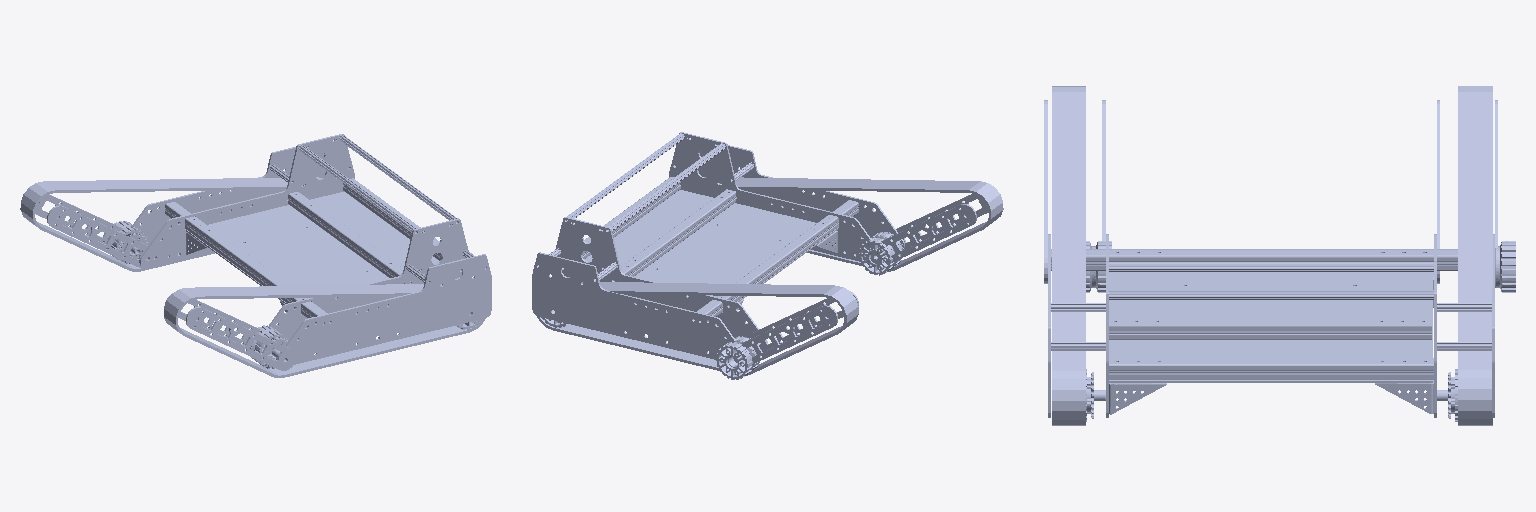
The robot description file, URDF, robot "rhino":
<?xml version="1.0"?>
<!-- This URDF was automatically created by SolidWorks to URDF Exporter! Originally created by [author] ([email redacted]) 
     Commit Version: 1.5.0-0-g9aa0fdb  Build Version: 1.5.7004.21443
     For more information, please see http://wiki.ros.org/sw_urdf_exporter -->

<robot xmlns:sensor="http://playerstage.sourceforge.net/gazebo/xmlschema/#sensor"
  xmlns:controller="http://playerstage.sourceforge.net/gazebo/xmlschema/#controller"
  xmlns:interface="http://playerstage.sourceforge.net/gazebo/xmlschema/#interface"
  xmlns:xacro="http://www.ros.org/wiki/xacro"
  name="rhino">
<!--   <gazebo>
    <plugin filename="libgazebo_ros_diff_drive.so" name="differential_drive_controller">
      <alwaysOn>true</alwaysOn>
      <updateRate>20</updateRate>
      <leftJoint>l_front_gear_joint</leftJoint>
      <rightJoint>r_front_gear_joint</rightJoint>
      <wheelSeparation>0.5207</wheelSeparation>
      <wheelDiameter>0.0381</wheelDiameter>
      <torque>0.1</torque>
      <commandTopic>cmd_vel</commandTopic>
      <odometryTopic>odom</odometryTopic>
      <odometryFrame>odom</odometryFrame>
      <robotBaseFrame>base_link</robotBaseFrame>
    </plugin>
  </gazebo> -->
  <link
    name="base_link">
    <inertial>
      <origin
        xyz="-0.0854539444578278 -0.248510652272491 -0.0312116526849612"
        rpy="0 0 0" />
      <mass
        value="3.56295751873982" />
      <inertia
        ixx="0.257988964378837"
        ixy="-4.92926267539531E-05"
        ixz="0.00927576508424767"
        iyy="0.169815337004094"
        iyz="-0.000325135700747767"
        izz="0.404346652256536" />
    </inertial>
    <visual>
      <origin
        xyz="0 0 0"
        rpy="0 0 0" />
      <geometry>
        <mesh
          filename="package://robot-description-rhino/meshes/base_link.STL" />
      </geometry>
      <material
        name="">
        <color
          rgba="0.792156862745098 0.819607843137255 0.933333333333333 1" />
      </material>
    </visual>
    <collision>
      <origin
        xyz="0 0 0"
        rpy="0 0 0" />
      <geometry>
        <mesh
          filename="package://robot-description-rhino/meshes/base_link.STL" />
      </geometry>
    </collision>
  </link>
  <link
    name="r_front_gear_link">
    <inertial>
      <origin
        xyz="-1.7946086172671E-08 0.000932848402039943 -1.21516630091634E-10"
        rpy="0 0 0" />
      <mass
        value="0.159751645930498" />
      <inertia
        ixx="0.000101683067389321"
        ixy="-2.67439877595214E-12"
        ixz="-4.32552434761431E-14"
        iyy="0.000126695577433162"
        iyz="7.52063087514194E-11"
        izz="0.000101675353103401" />
    </inertial>
    <visual>
      <origin
        xyz="0 0 0"
        rpy="0 0 0" />
      <geometry>
        <mesh
          filename="package://robot-description-rhino/meshes/r_rear_gear_link.STL" />
      </geometry>
      <material
        name="">
        <color
          rgba="0.792156862745098 0.819607843137255 0.933333333333333 1" />
      </material>
    </visual>
    <collision>
      <origin
        xyz="0 0 0"
        rpy="0 0 0" />
      <geometry>
        <cylinder radius="0.049" length="0.075"/>
      </geometry>
    </collision>
  </link>
  <joint
    name="r_front_gear_joint"
    type="continuous">
    <origin
      xyz="-0.302841769105532 0.0553113212582894 -0.085091106884355"
      rpy="1.5707 0 0" />
    <parent
      link="base_link" />
    <child
      link="r_front_gear_link" />
    <axis
      xyz="0 0 1" />
    <safety_controller
      k_velocity="0" />
  </joint>
  <link
    name="l_front_gear_link">
    <inertial>
      <origin
        xyz="-1.79460862281822E-08 0.00093284840204011 -1.21516602336058E-10"
        rpy="0 0 0" />
      <mass
        value="0.159751645930498" />
      <inertia
        ixx="0.000101683067389321"
        ixy="-2.67439883249513E-12"
        ixz="-4.32553806954293E-14"
        iyy="0.000126695577433162"
        iyz="7.52063087551771E-11"
        izz="0.000101675353103401" />
    </inertial>
    <visual>
      <origin
        xyz="0 0 0"
        rpy="0 0 0" />
      <geometry>
        <mesh
          filename="package://robot-description-rhino/meshes/r_rear_gear_link.STL" />
      </geometry>
      <material
        name="">
        <color
          rgba="0.792156862745098 0.819607843137255 0.933333333333333 1" />
      </material>
    </visual>
    <collision>
      <origin
        xyz="0 0 0"
        rpy="0 0 0" />
      <geometry>
        <cylinder radius="0.049" length="0.075"/>
      </geometry>
    </collision>
  </link>
  <joint
    name="l_front_gear_joint"
    type="continuous">
    <origin
      xyz="-0.302841769105532 -0.552764678741711 -0.0850911068843571"
      rpy="1.5707 0 0" />
    <parent
      link="base_link" />
    <child
      link="l_front_gear_link" />
    <axis
      xyz="0 0 1" />
    <safety_controller
      k_velocity="0" />
  </joint>
  <link
    name="l_rear_gear_link">
    <inertial>
      <origin
        xyz="7.57477243706894E-08 -1.08693112843561E-08 0.0292794468265919"
        rpy="0 0 0" />
      <mass
        value="0.172189485209679" />
      <inertia
        ixx="0.000122932192302857"
        ixy="-3.43751007724576E-09"
        ixz="3.82354732243698E-10"
        iyy="0.000122927948516554"
        iyz="-1.56297480680647E-10"
        izz="0.000135229835419743" />
    </inertial>
    <visual>
      <origin
        xyz="0 0 0"
        rpy="0 0 0" />
      <geometry>
        <mesh
          filename="package://robot-description-rhino/meshes/l_rear_gear_link.STL" />
      </geometry>
      <material
        name="">
        <color
          rgba="0.792156862745098 0.819607843137255 0.933333333333333 1" />
      </material>
    </visual>
    <collision>
      <origin
        xyz="0 0 0"
        rpy="0 0 0" />
      <geometry>
        <cylinder radius="0.049" length="0.075"/>
      </geometry>
    </collision>
  </link>
  <joint
    name="l_rear_gear_joint"
    type="continuous">
    <origin
      xyz="0.154358230894468 -0.51955417874171 -0.0850911068843558"
      rpy="1.5707 0 0" />
    <parent
      link="base_link" />
    <child
      link="l_rear_gear_link" />
    <axis
      xyz="0 0 1" />
    <safety_controller
      k_velocity="0" />
  </joint>
  <link
    name="r_rear_gear_link">
    <inertial>
      <origin
        xyz="-4.28818209829984E-08 -7.9362040883435E-08 -0.0333434215720098"
        rpy="0 0 0" />
      <mass
        value="0.172189485469411" />
      <inertia
        ixx="0.000122932112918135"
        ixy="-3.23459466121525E-09"
        ixz="8.39145638229489E-11"
        iyy="0.000122928572079766"
        iyz="3.39198135872643E-10"
        izz="0.00013522983543829" />
    </inertial>
    <visual>
      <origin
        xyz="0 0 0"
        rpy="0 0 0" />
      <geometry>
        <mesh
          filename="package://robot-description-rhino/meshes/r_rear_gear_link.STL" />
      </geometry>
      <material
        name="">
        <color
          rgba="0.792156862745098 0.819607843137255 0.933333333333333 1" />
      </material>
    </visual>
    <collision>
      <origin
        xyz="0 0 0"
        rpy="0 0 0" />
      <geometry>
        <cylinder radius="0.049" length="0.075"/>
      </geometry>
    </collision>
  </link>
  <joint
    name="r_rear_gear_joint"
    type="continuous">
    <origin
      xyz="0.154358230894465 0.0180368212582895 -0.0850911068843606"
      rpy="1.5707 0 0" />
    <parent
      link="base_link" />
    <child
      link="r_rear_gear_link" />
    <axis
      xyz="0 0 1" />
    <safety_controller
      k_velocity="0" />
  </joint>

  <gazebo>
    <plugin name="skid_steer_drive_controller" filename="libgazebo_ros_skid_steer_drive.so">
      <updateRate>100.0</updateRate>
      <leftFrontJoint>l_front_gear_joint</leftFrontJoint>
      <rightFrontJoint>r_front_gear_joint</rightFrontJoint>
      <leftRearJoint>l_rear_gear_joint</leftRearJoint>
      <rightRearJoint>r_rear_gear_joint</rightRearJoint>
      <wheelSeparation>0.5207</wheelSeparation>
      <wheelDiameter>0.0762</wheelDiameter>
      <robotBaseFrame>base_link</robotBaseFrame>
      <torque>200</torque>
      <commandTopic>cmd_vel</commandTopic>
      <odometryTopic>odom</odometryTopic>
      <odometryFrame>odom</odometryFrame>
      <broadcastTF>true</broadcastTF>
    </plugin>
  </gazebo>

</robot>

--- Render facts (derived) ---
3 views of the same robot in one strip: view 1: azimuth 30°, elevation 25°; view 2: azimuth 150°, elevation 25°; view 3: azimuth 270°, elevation 25° (orthographic).
Model rhino with 5 links and 4 joints (4 continuous), rooted at base_link, posed every joint at zero.
Links seen in each view (by area): view 1: base_link, r_front_gear_link, l_front_gear_link; view 2: base_link, r_front_gear_link, l_front_gear_link; view 3: base_link, r_front_gear_link, r_rear_gear_link, l_front_gear_link.
Boxes of the visible links, x1,y1,x2,y2 form: base_link: (20,134,491,377); r_front_gear_link: (103,221,148,263); l_front_gear_link: (250,325,288,368); base_link: (532,132,1003,375); r_front_gear_link: (716,336,759,379); l_front_gear_link: (859,232,903,275); base_link: (1044,86,1497,425); r_front_gear_link: (1495,241,1515,292); r_rear_gear_link: (1437,369,1457,421); l_front_gear_link: (1086,241,1111,292).
Bounding box of the posed robot: 0.7726 × 0.7091 × 0.242 m (x, y, z).
Meshes: 3 distinct files referenced, 5 mesh visuals loaded (3 binary STL).